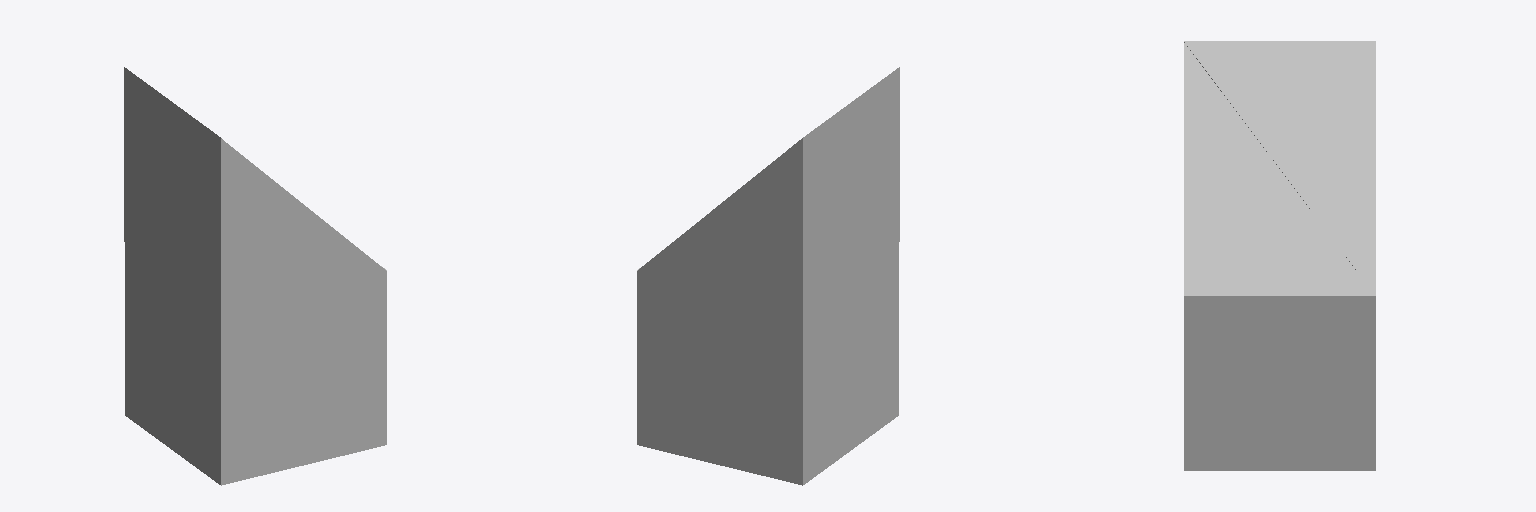
File: Ramp.obj
3 views of the same model, side by side, from view 1: azimuth 30°, elevation 25°; view 2: azimuth 150°, elevation 25°; view 3: azimuth 270°, elevation 25° (orthographic).
Visible parts, largest first — view 1: pCube3; view 2: pCube3; view 3: pCube3.
Boxes of the visible parts, box(x1,y1,x2,y2) form: pCube3: box(124, 67, 386, 485); pCube3: box(637, 67, 899, 485); pCube3: box(1184, 41, 1375, 470).
Bounding box in the file's own units: 11.78 × 23.51 × 11.78.